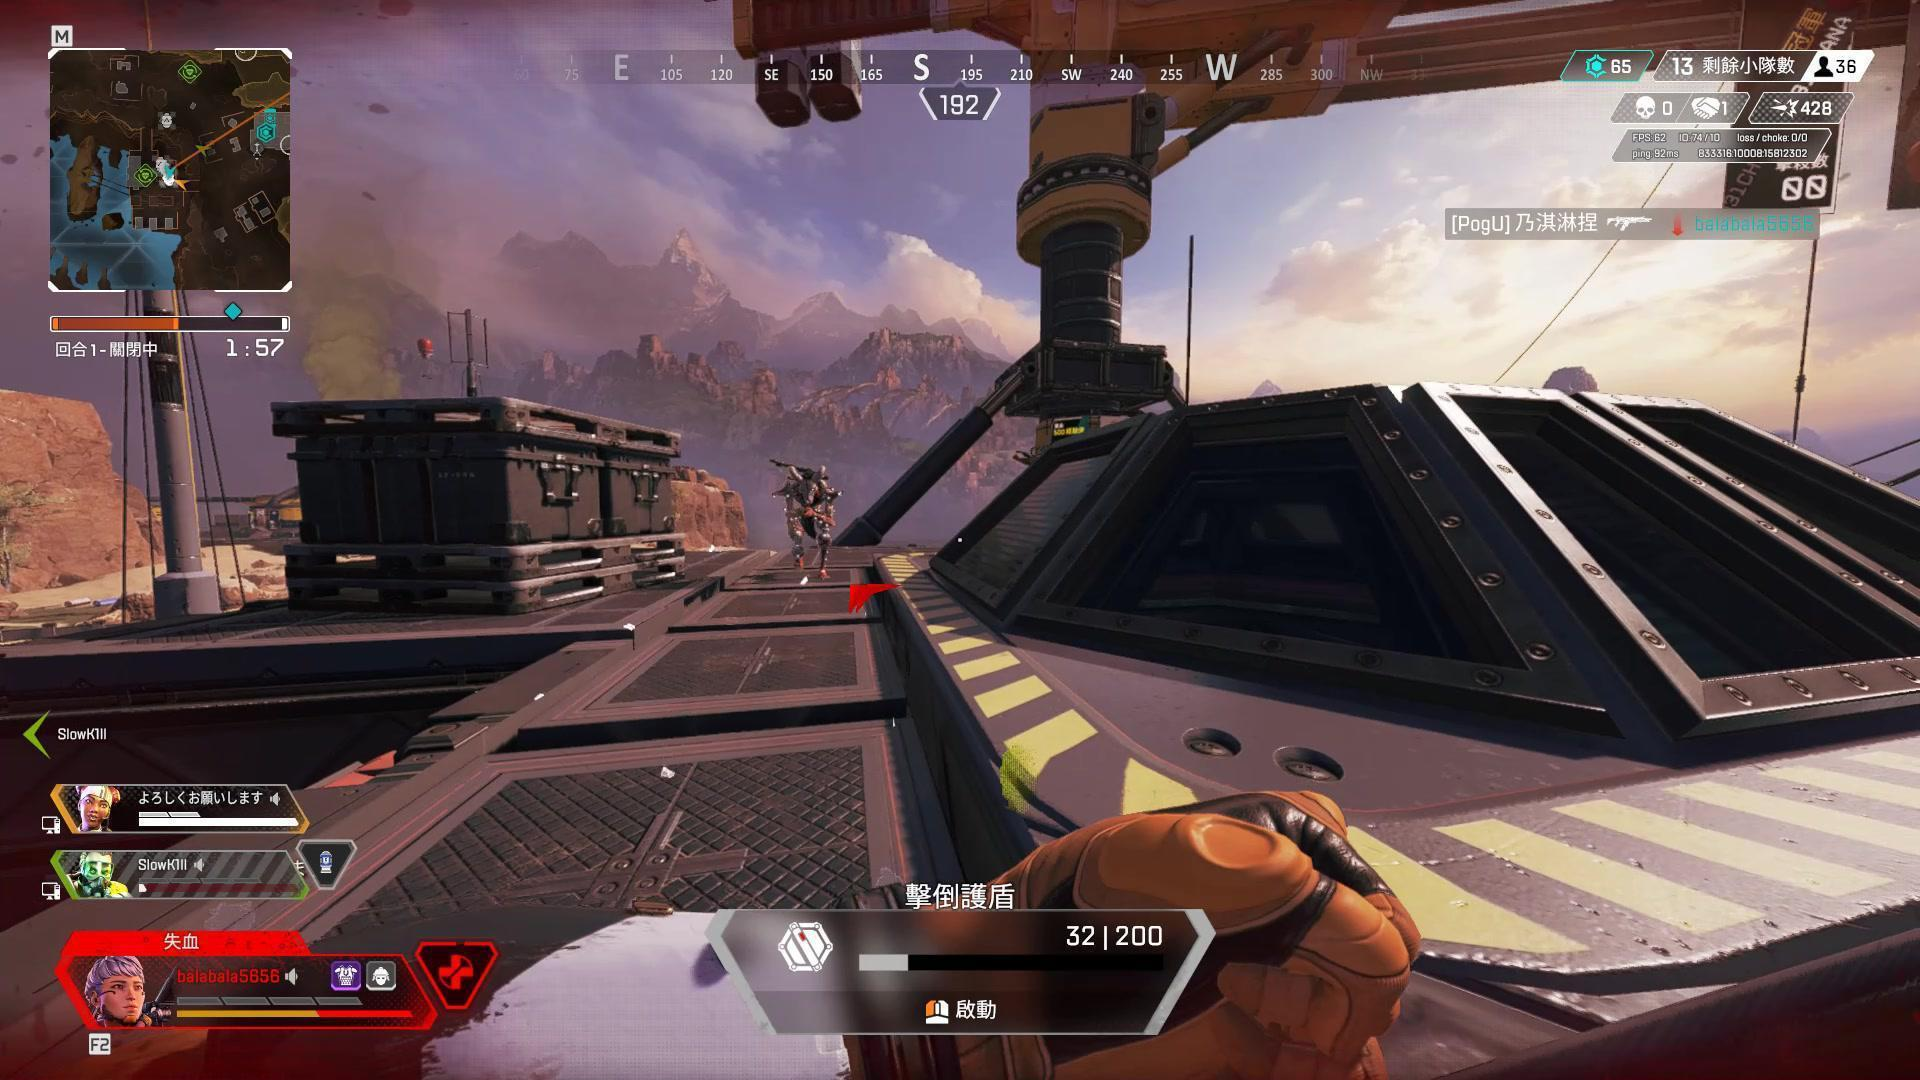avatar: (769, 460, 838, 583)
